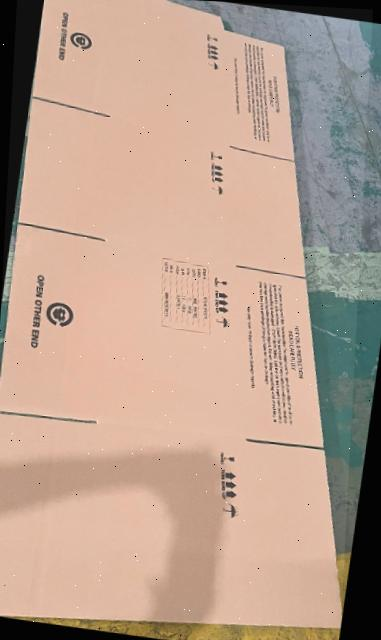box: (0, 0, 341, 627)
